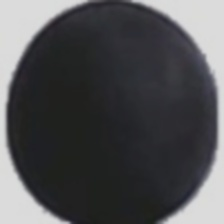grapes: (15, 6, 204, 178)
